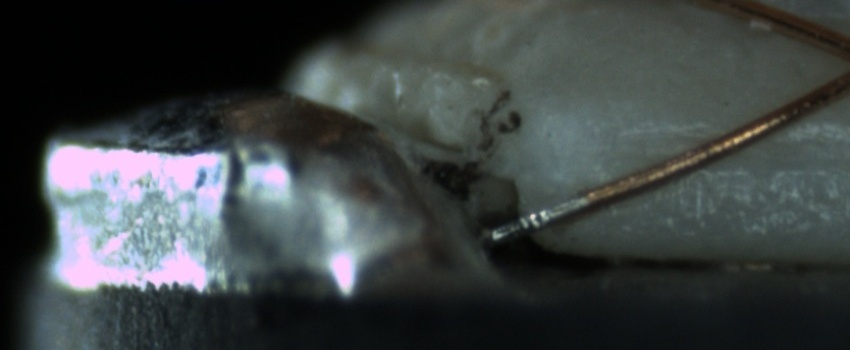DL: (619, 108, 847, 181)
TS: (484, 192, 587, 246)
TTCW: (484, 181, 604, 245)
